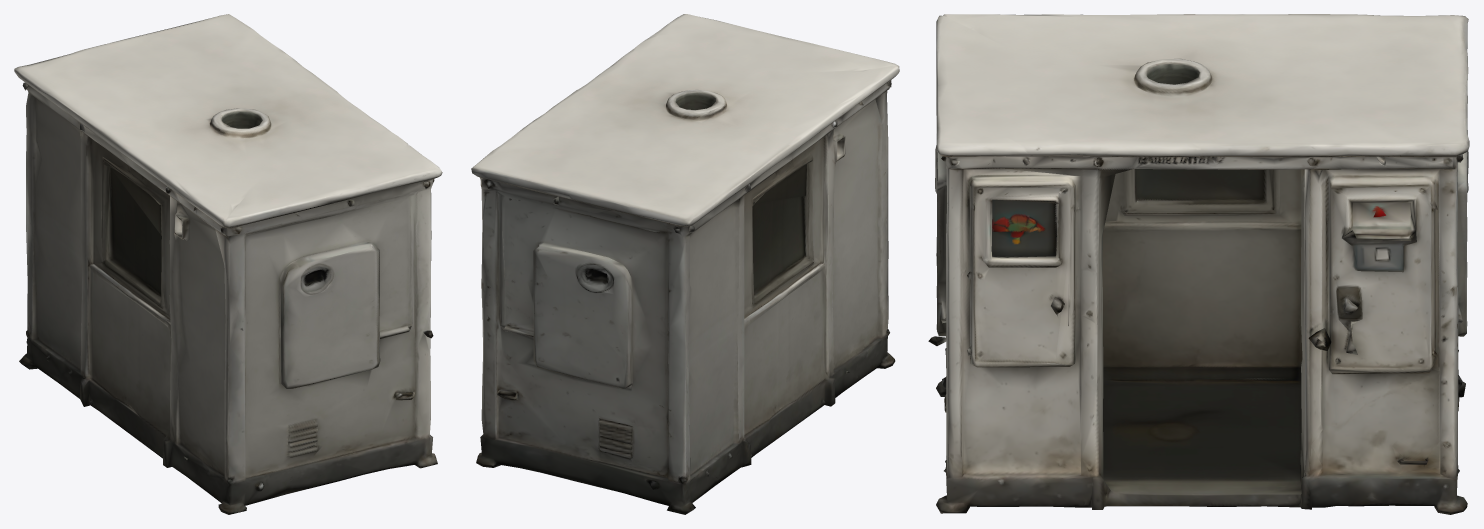
Rendered from scanner.glb.
3 views of the same model, side by side, from view 1: azimuth 30°, elevation 25°; view 2: azimuth 150°, elevation 25°; view 3: azimuth 270°, elevation 25° (orthographic). The views are drawn at different scales.
Visible parts, largest first — view 1: tripo_node_fafa21c9-d341-4844-a025-1bf47c415136; view 2: tripo_node_fafa21c9-d341-4844-a025-1bf47c415136; view 3: tripo_node_fafa21c9-d341-4844-a025-1bf47c415136.
Boxes of the visible parts, x1,y1,x2,y2 form: tripo_node_fafa21c9-d341-4844-a025-1bf47c415136: [14, 14, 442, 514]; tripo_node_fafa21c9-d341-4844-a025-1bf47c415136: [471, 14, 899, 514]; tripo_node_fafa21c9-d341-4844-a025-1bf47c415136: [928, 14, 1469, 514].
Size of the model in its own units: 0.6025 by 0.7548 by 0.9814.
1 material, 1 textured.
